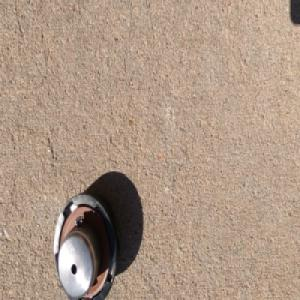FuelCap: (50, 190, 120, 300)
